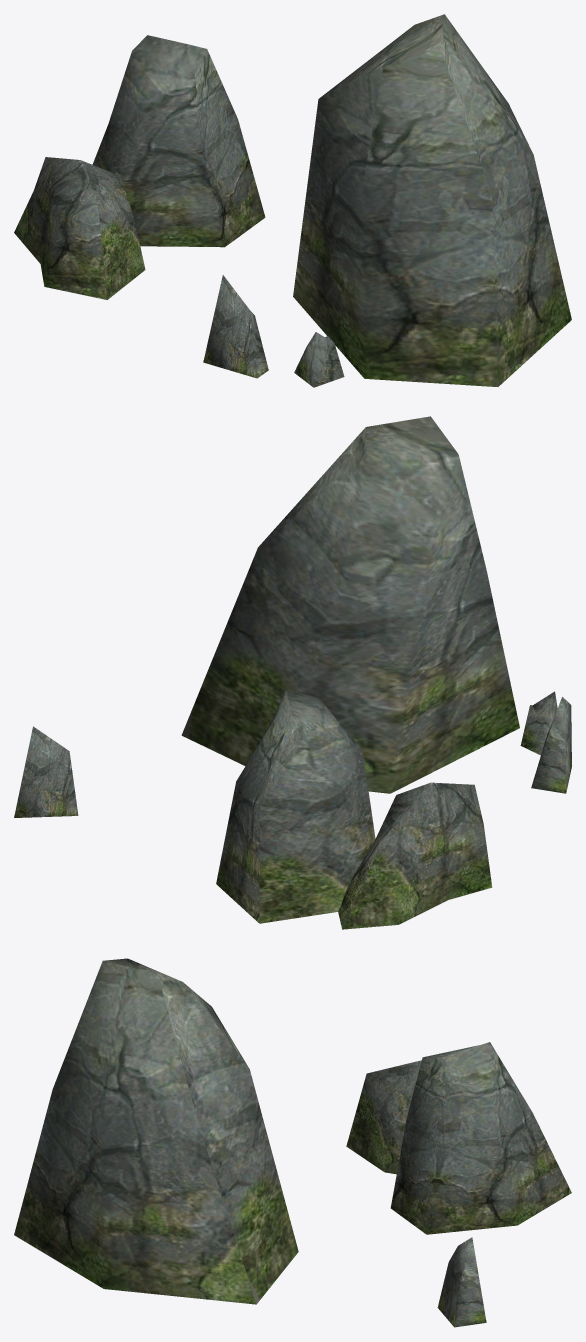
File: shitou_wlc_41.FBX
3 renders of one model, top to bottom at view 1: azimuth 30°, elevation 25°; view 2: azimuth 150°, elevation 25°; view 3: azimuth 270°, elevation 25°, orthographic. The views are drawn at different scales.
Parts seen in each view (by area): view 1: shitou_wlc_41; view 2: shitou_wlc_41; view 3: shitou_wlc_41.
Boxes of the visible parts, box(x1,y1,x2,y2) form: shitou_wlc_41: box(14, 14, 571, 387); shitou_wlc_41: box(14, 416, 571, 929); shitou_wlc_41: box(14, 958, 571, 1327).
Size of what is drawn, in the model's own units: 364 by 237 by 439.
